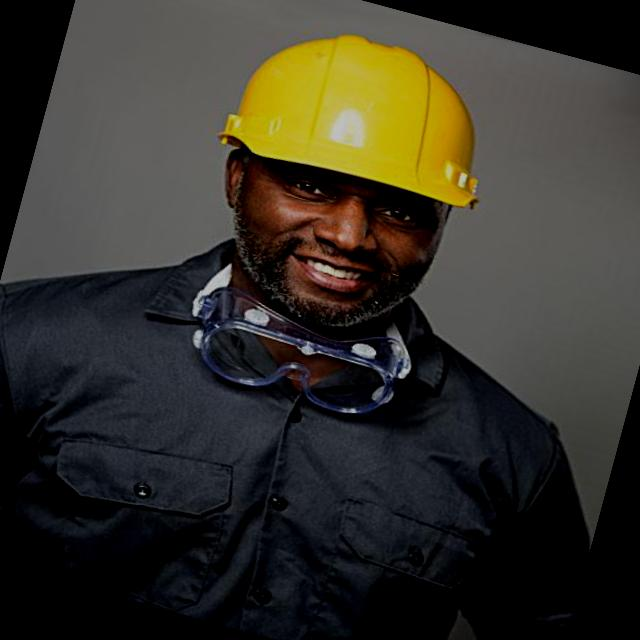helmet: (204, 0, 513, 220)
no-vest: (0, 233, 613, 640)
